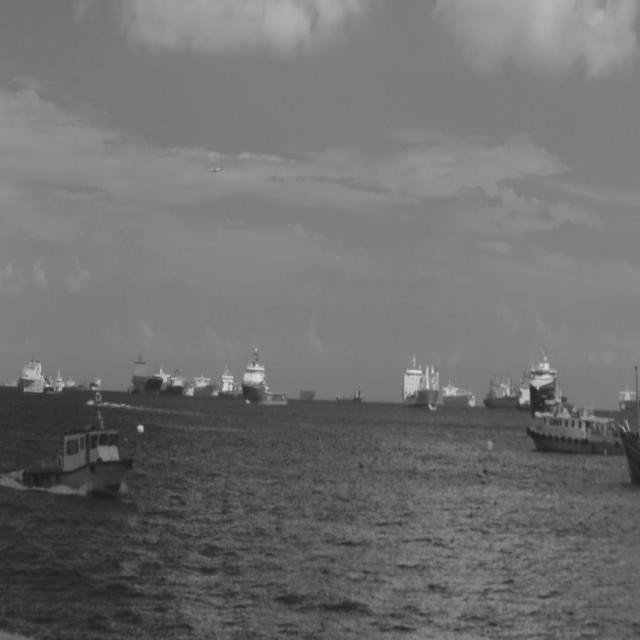buoy: (136, 422, 144, 434)
ship: (21, 408, 134, 496), (526, 376, 633, 456), (241, 344, 288, 406), (528, 345, 568, 417), (402, 349, 439, 412), (126, 352, 164, 398), (482, 370, 519, 410), (18, 354, 46, 396), (183, 370, 218, 403), (619, 429, 639, 486), (442, 378, 476, 410), (218, 363, 241, 401), (164, 362, 187, 397), (618, 381, 639, 414), (334, 388, 366, 404), (50, 368, 66, 396), (92, 390, 105, 408), (89, 376, 102, 392)
